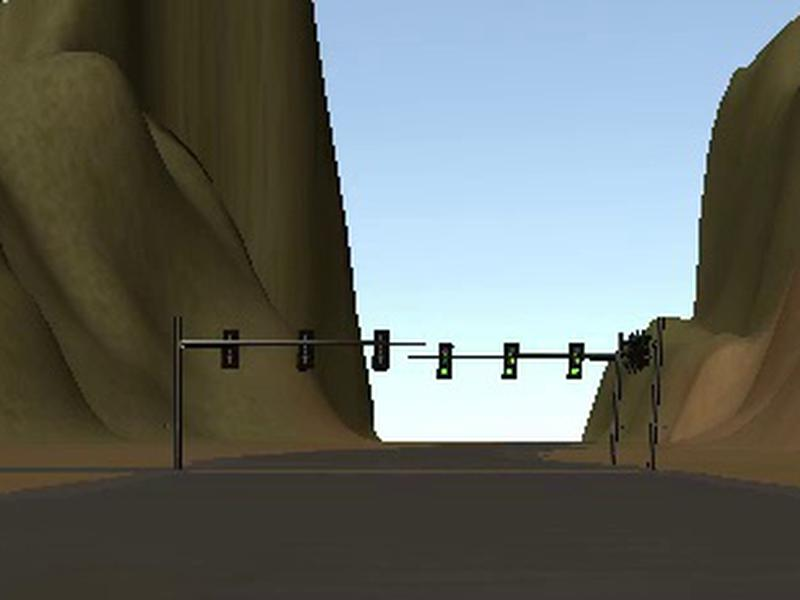Green: (500, 342, 521, 379), (565, 342, 585, 379), (435, 343, 455, 379)
